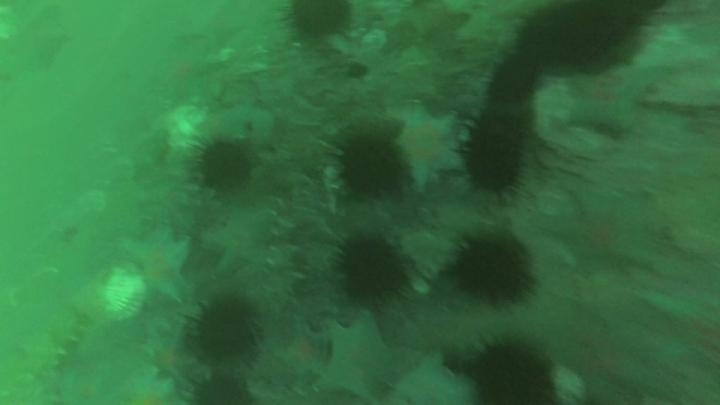echinus: (474, 344, 553, 405), (459, 243, 527, 303), (198, 300, 258, 362), (345, 136, 405, 196), (345, 240, 404, 299), (565, 1, 623, 59), (466, 139, 521, 194), (521, 18, 577, 66), (200, 142, 252, 191), (492, 53, 537, 100), (291, 2, 352, 34), (472, 115, 524, 145)
holothurian: (26, 309, 80, 378), (269, 218, 302, 308)
scallop: (104, 273, 147, 321), (159, 109, 206, 137), (363, 29, 388, 50)
starfish: (543, 194, 657, 278), (562, 326, 663, 405), (325, 310, 403, 395), (567, 61, 651, 126), (402, 101, 460, 190), (126, 231, 193, 303), (214, 210, 278, 273), (398, 355, 474, 404), (275, 321, 328, 390), (144, 323, 191, 385)
